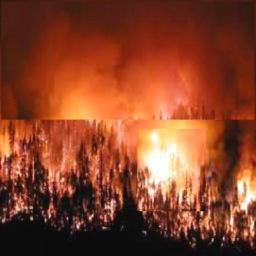Heavy smoke: (0, 0, 256, 127)
Medium fire: (0, 124, 256, 208)
